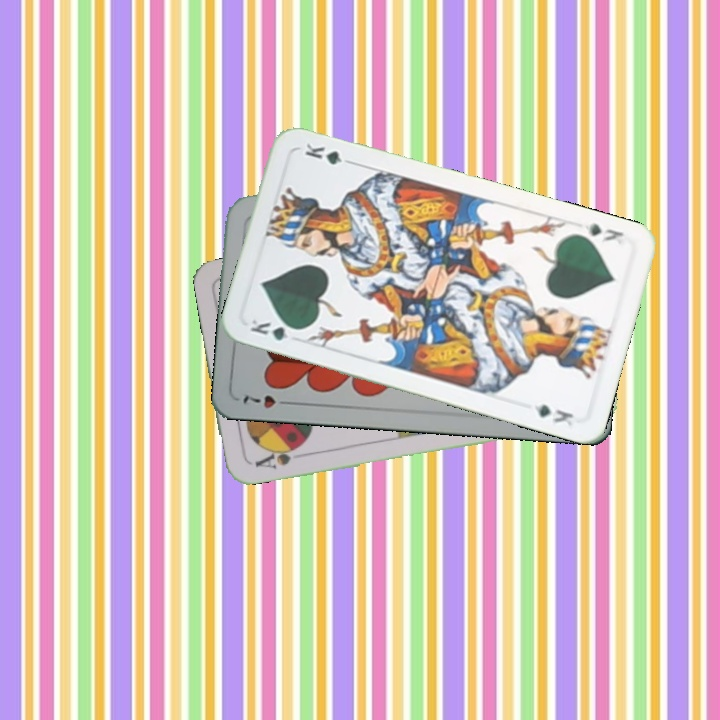GK: (246, 315, 304, 343), (579, 219, 627, 247)
H7: (239, 391, 295, 411)
SA: (251, 441, 304, 472)
